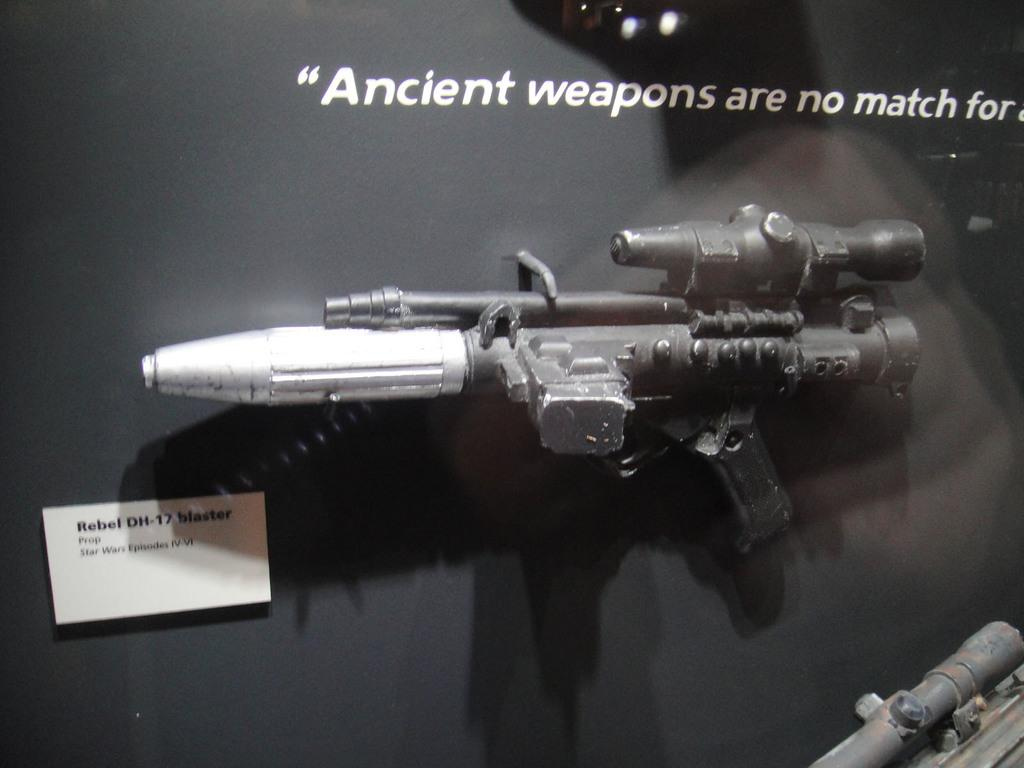Rifle: (140, 205, 931, 558), (811, 618, 1023, 767)
